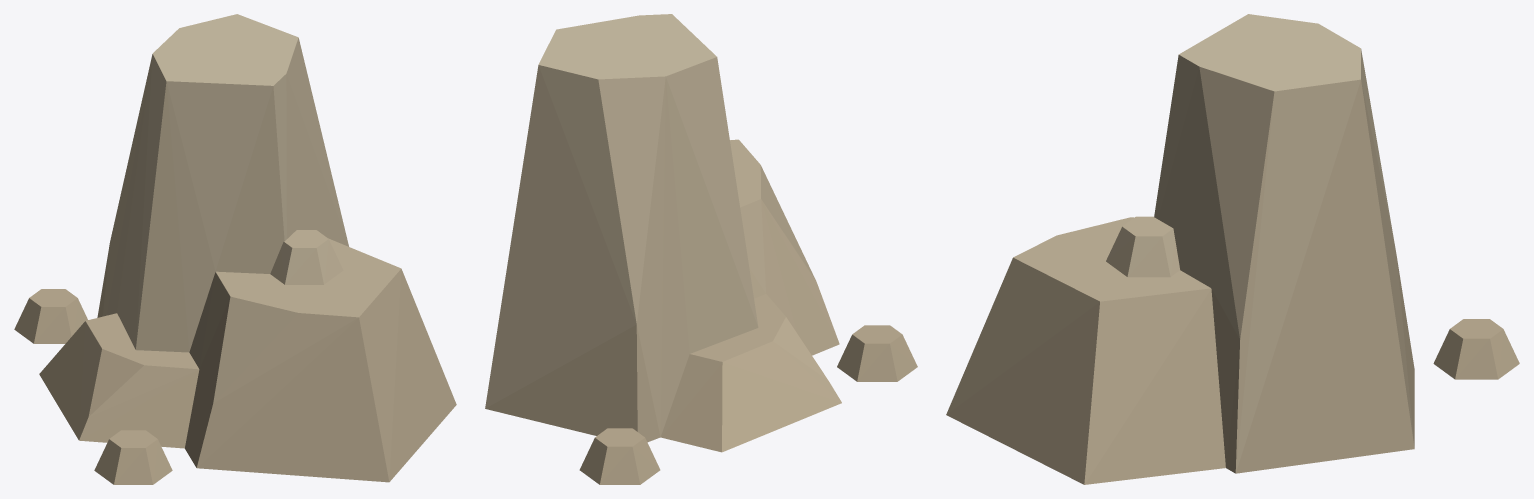
The model's file is desert-rock-0.glb.
The picture shows the model from 3 angles, left to right: view 1: azimuth 30°, elevation 25°; view 2: azimuth 150°, elevation 25°; view 3: azimuth 270°, elevation 25°; orthographic projection. The views are drawn at different scales.
Visible parts, largest first — view 1: desert-rock-0; view 2: desert-rock-0; view 3: desert-rock-0.
Part boxes in pixels (left/top/right/bottom): desert-rock-0: left=14, top=14, right=456, bottom=484; desert-rock-0: left=485, top=14, right=917, bottom=484; desert-rock-0: left=946, top=14, right=1519, bottom=484.
Bounding box in the file's own units: 0.619 × 0.561 × 0.8223.
